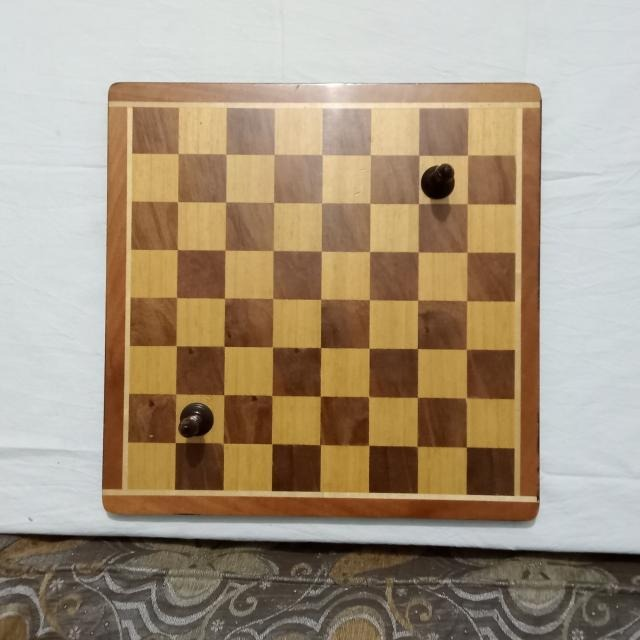black-bishop: (419, 160, 457, 199), (178, 401, 214, 439)
